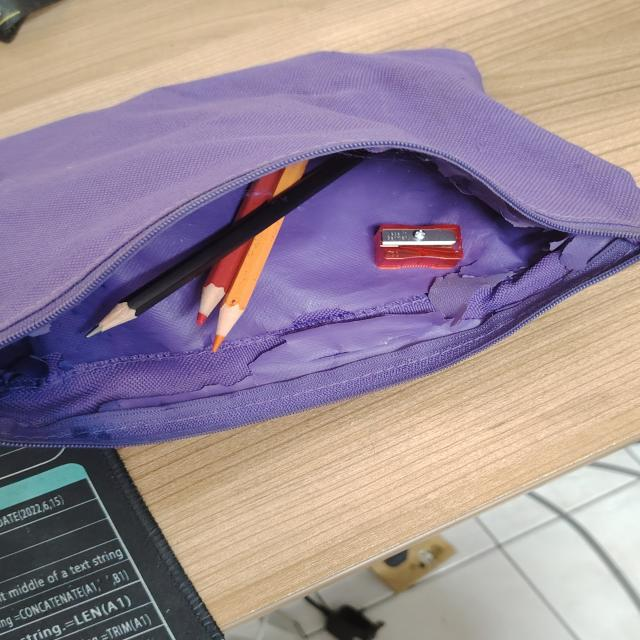pencil: (86, 152, 364, 338), (212, 160, 309, 352), (196, 166, 286, 325)
sharpener: (373, 224, 463, 269)
